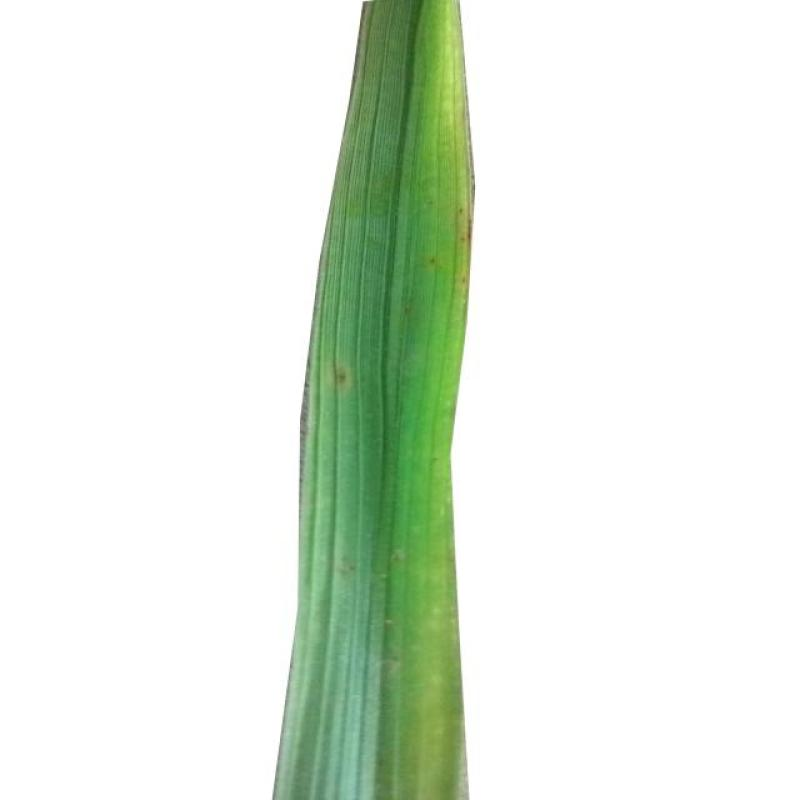Rice Tungro: (366, 3, 469, 228)
